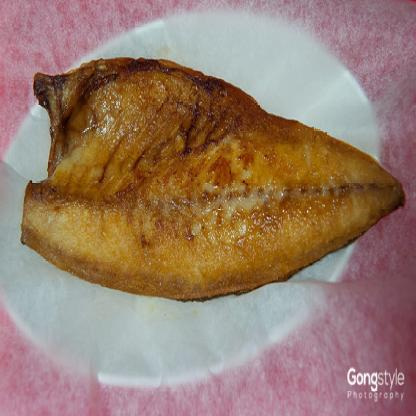Peixe: (1, 40, 411, 326)
